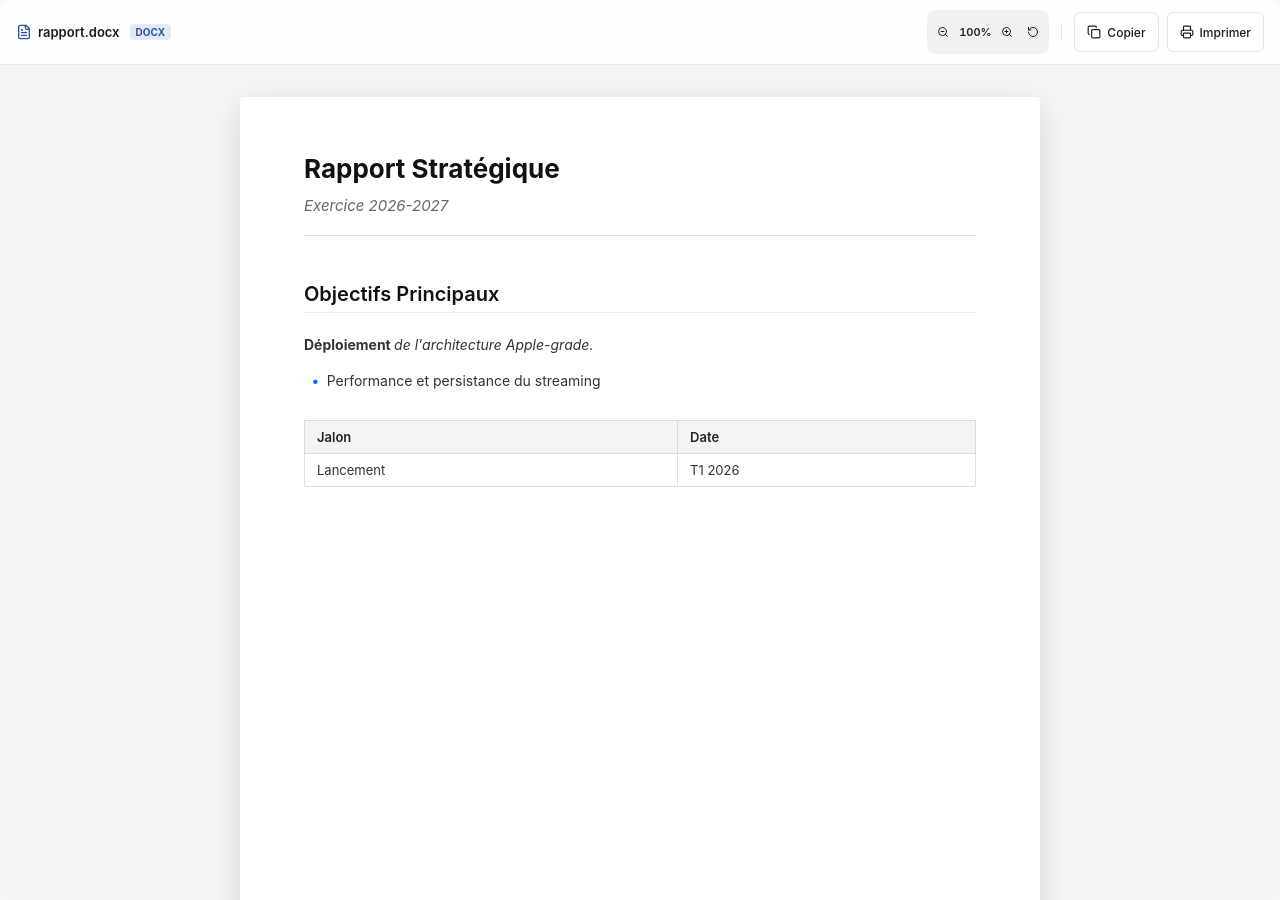
Test: Document & File Visualizers › WordDocumentViewer › handles zoom controls
Check: the text "100%" is shown, box [957,25,993,39]
Click the button titled "Zoom avant": (1007, 32) [995,12,1019,52]
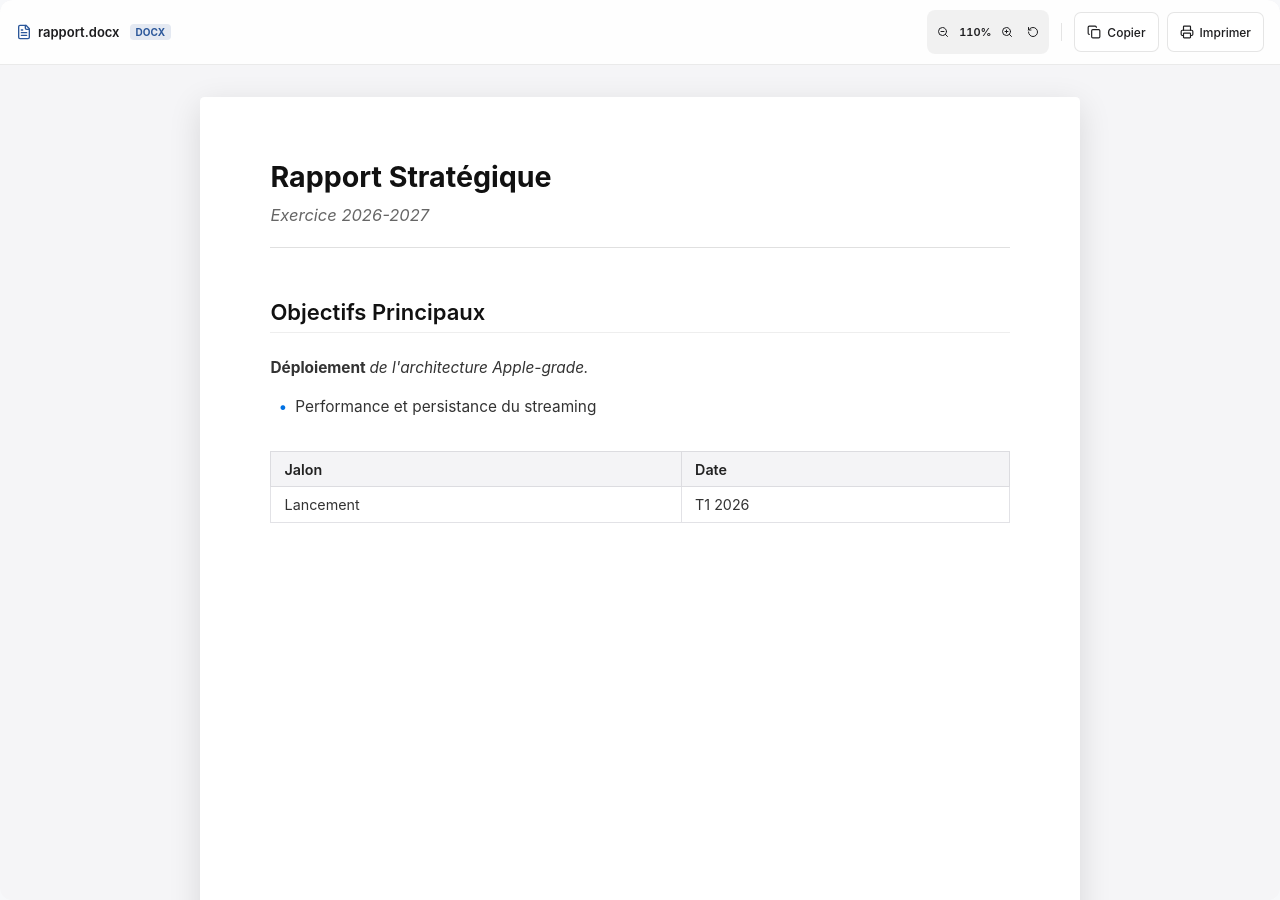
Check: the text "110%" is shown, box [957,25,993,39]
